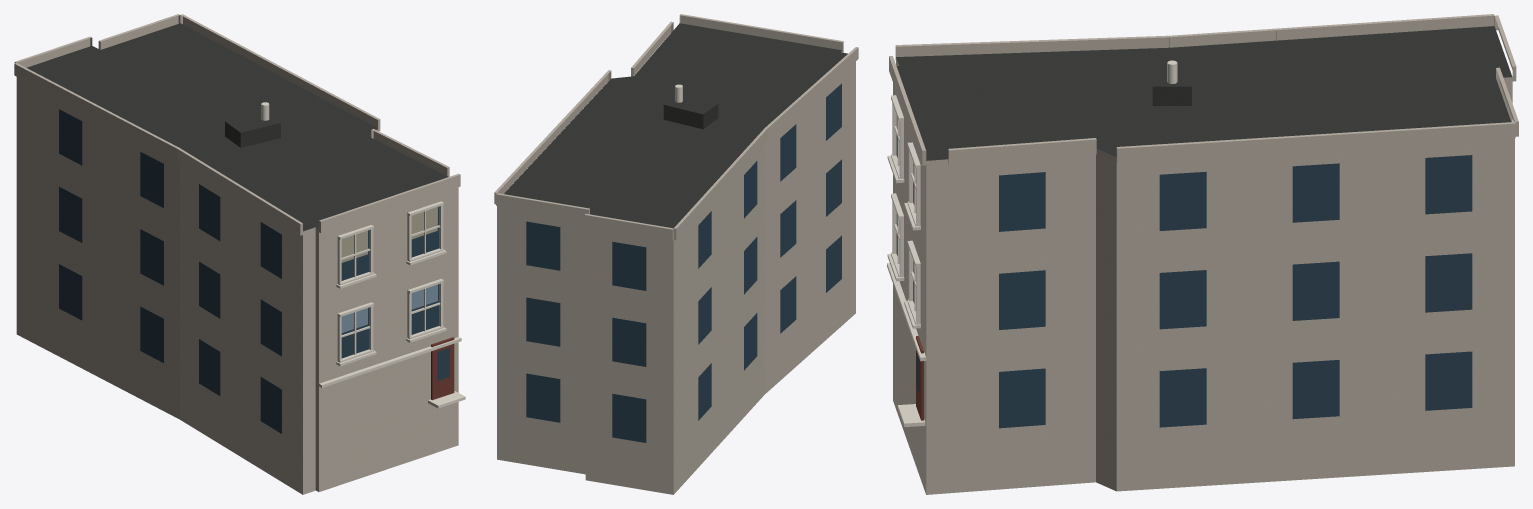
3 views of the same model, side by side, from view 1: azimuth 30°, elevation 25°; view 2: azimuth 150°, elevation 25°; view 3: azimuth 270°, elevation 25° (orthographic). The views are drawn at different scales.
Visible parts, largest first — view 1: Footprint 0 / surface 2, Footprint 0 / surface 1, Inset glazing, Facade bay volumes, Cornices and window frames, Interior blind variation, Storefronts and doors, Sky reflection panels, Inferred rooftop service enclosure / surface 5, Inferred rooftop service enclosure / surface 3; view 2: Footprint 0 / surface 2, Footprint 0 / surface 1, Inset glazing, Facade bay volumes, Inferred rooftop service enclosure / surface 6, Inferred rooftop service enclosure / surface 3; view 3: Footprint 0 / surface 2, Footprint 0 / surface 1, Inset glazing, Facade bay volumes, Cornices and window frames, Inferred rooftop service enclosure / surface 1, Inferred rooftop service enclosure / surface 3.
Boxes of the visible parts, box(x1,y1,x2,y2) form: Footprint 0 / surface 2: box(16, 77, 458, 494); Footprint 0 / surface 1: box(26, 23, 448, 231); Inset glazing: box(59, 109, 449, 433); Facade bay volumes: box(14, 14, 460, 235); Cornices and window frames: box(319, 201, 465, 408); Interior blind variation: box(341, 207, 437, 262); Storefronts and doors: box(431, 337, 454, 400); Sky reflection panels: box(341, 207, 437, 332); Inferred rooftop service enclosure / surface 5: box(240, 123, 280, 147); Inferred rooftop service enclosure / surface 3: box(225, 112, 280, 132); Footprint 0 / surface 2: box(497, 51, 855, 494); Footprint 0 / surface 1: box(504, 23, 847, 228); Inset glazing: box(526, 83, 841, 442); Facade bay volumes: box(494, 14, 858, 240); Inferred rooftop service enclosure / surface 6: box(663, 105, 703, 129); Inferred rooftop service enclosure / surface 3: box(664, 94, 717, 114); Footprint 0 / surface 2: box(893, 58, 1514, 494); Footprint 0 / surface 1: box(896, 26, 1512, 160); Inset glazing: box(896, 135, 1472, 428); Facade bay volumes: box(889, 14, 1518, 165); Cornices and window frames: box(887, 95, 926, 426); Inferred rooftop service enclosure / surface 1: box(1152, 86, 1191, 105); Inferred rooftop service enclosure / surface 3: box(1152, 62, 1191, 86).
Bounding box in the file's own units: 9.88 × 12.55 × 19.28.
